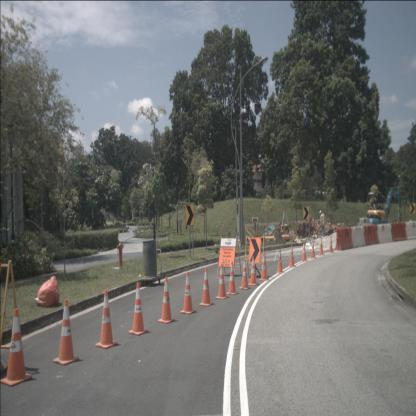barrier: (335, 228, 353, 250), (350, 226, 366, 249), (362, 225, 379, 246), (376, 223, 393, 244), (390, 222, 407, 242), (404, 221, 416, 240)
cone: (0, 307, 32, 386), (53, 298, 79, 365), (95, 289, 118, 349), (128, 283, 148, 335), (158, 276, 175, 324), (180, 272, 196, 314), (199, 267, 213, 307), (216, 264, 228, 299), (226, 261, 238, 295), (239, 258, 250, 289), (248, 256, 258, 286), (259, 254, 269, 281), (276, 249, 284, 274), (287, 246, 296, 267), (300, 242, 308, 262), (310, 239, 316, 259), (318, 238, 324, 256), (328, 236, 334, 253)
